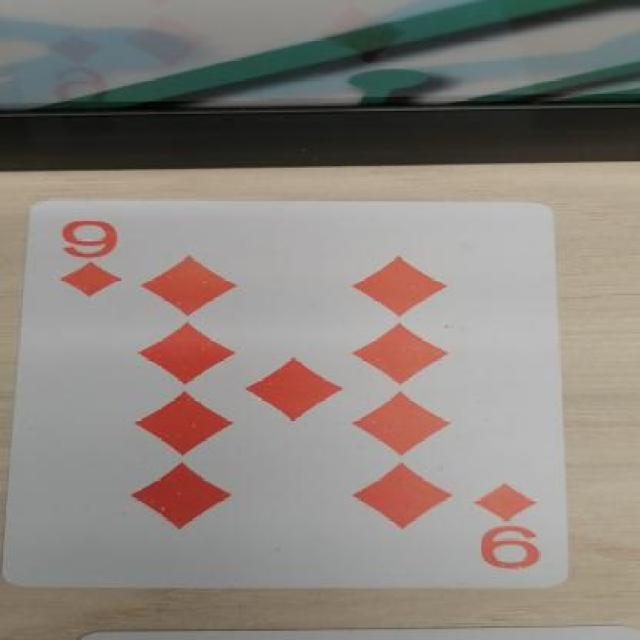9D: (22, 206, 182, 300), (478, 475, 558, 579)
